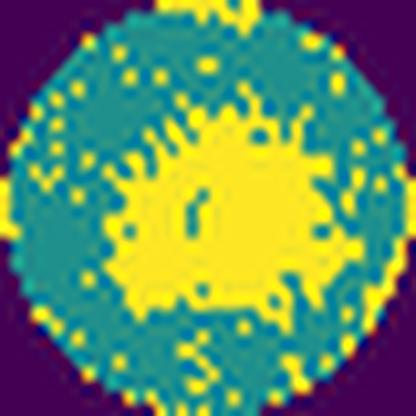Center: (102, 85, 367, 339)
